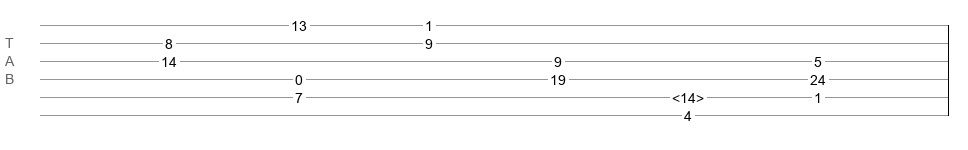0: (295, 72, 303, 82)
1: (425, 18, 433, 28), (814, 90, 822, 100)
13: (291, 18, 307, 28)
14: (161, 54, 177, 64)
19: (550, 72, 566, 82)
24: (810, 72, 826, 82)
4: (684, 108, 692, 118)
5: (814, 54, 822, 64)
7: (295, 90, 303, 100)
8: (165, 36, 173, 46)
9: (425, 36, 433, 46), (554, 54, 562, 64)
harmonic: (672, 90, 704, 100)
